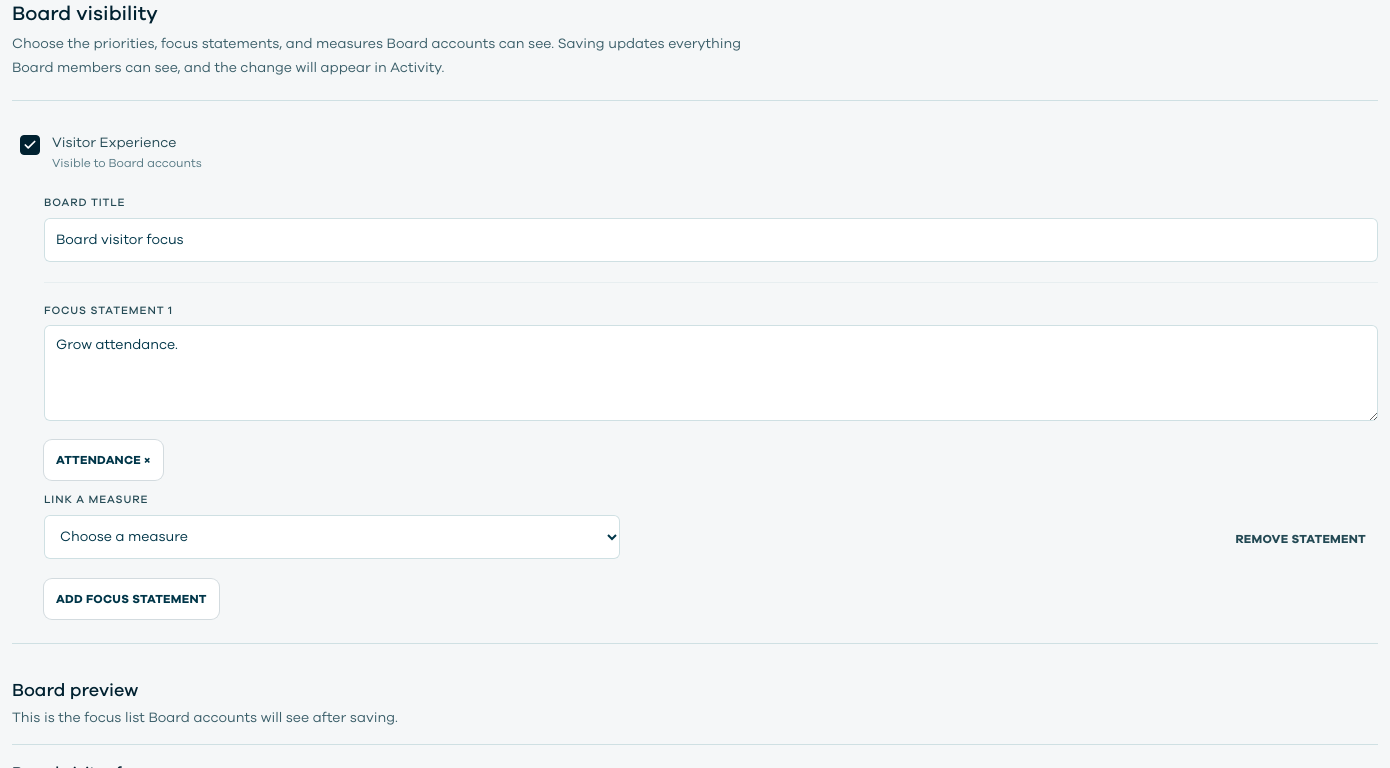
Test: BoardReportingEditorClient › saves a valid edit and adopts the returned revision as its clean baseline
This screenshot has width=1390, height=768.
Replace the text in the field labelled "Board title" with "Updated Board focus" at (711, 240), box [44,218,1378,262]
(page scrolled)
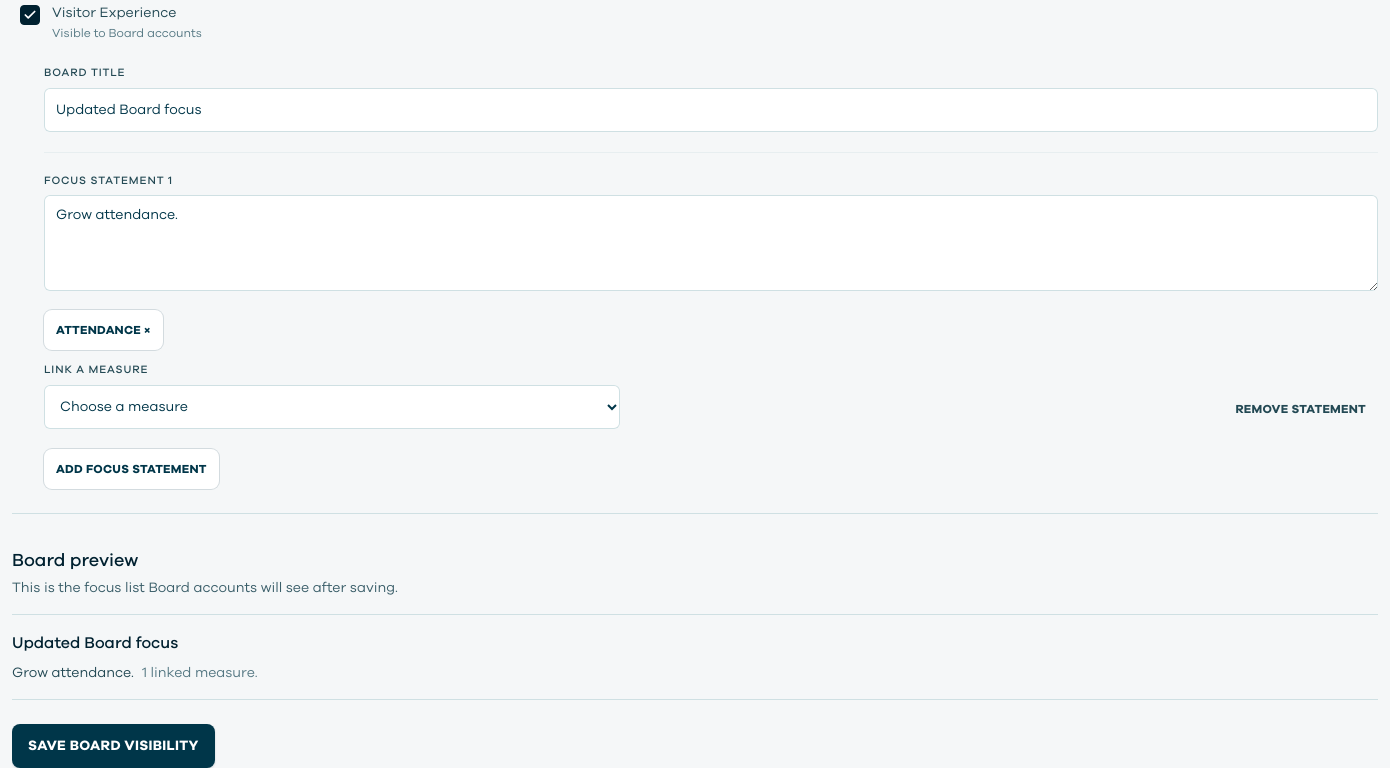
Click the button "Save Board visibility".
click(113, 746)  # box [12,724,215,767]
(page scrolled)
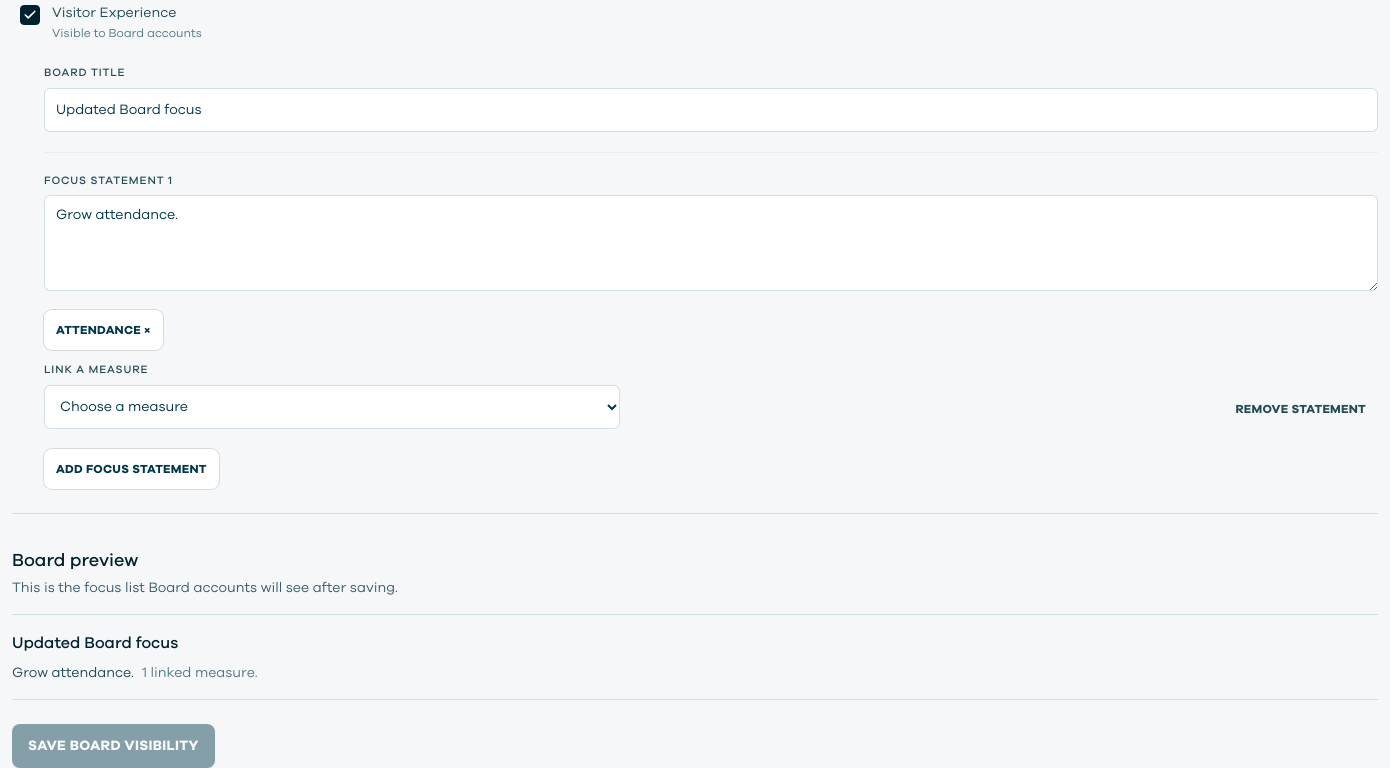
Expected: the button "Save Board visibility" is disabled, [12,724,215,767]
